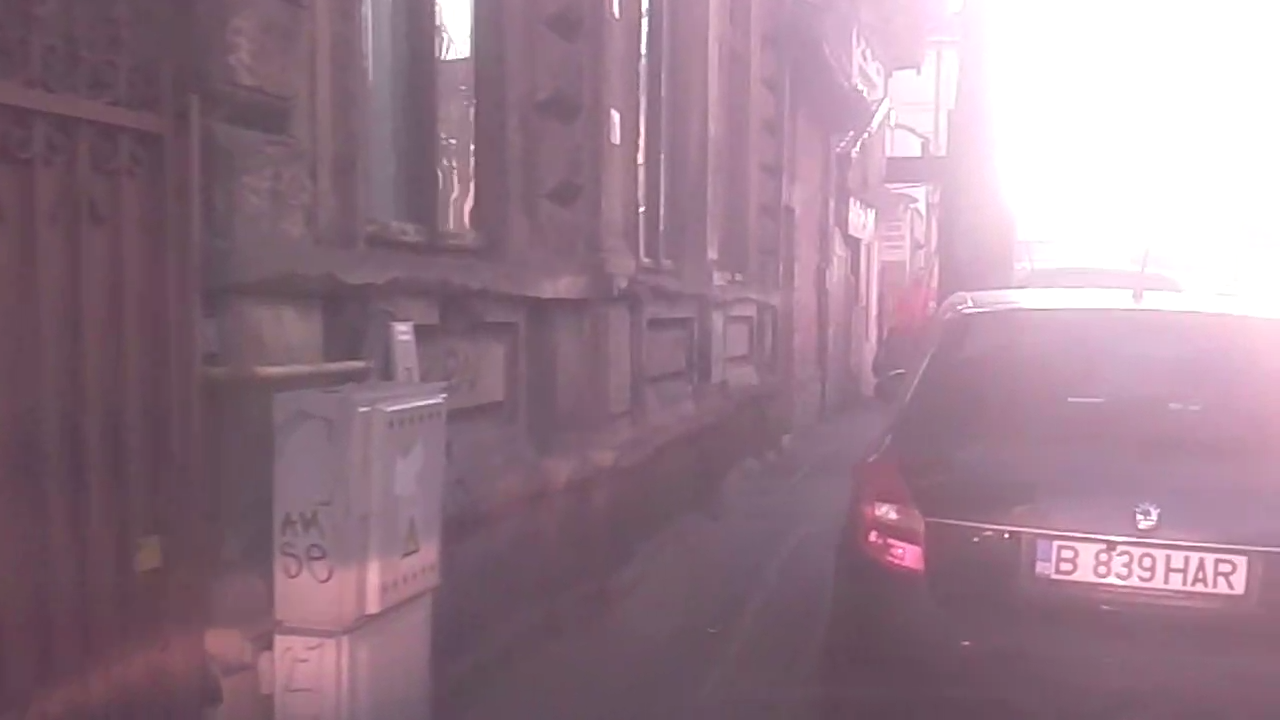license-plate: (1029, 530, 1256, 605)
